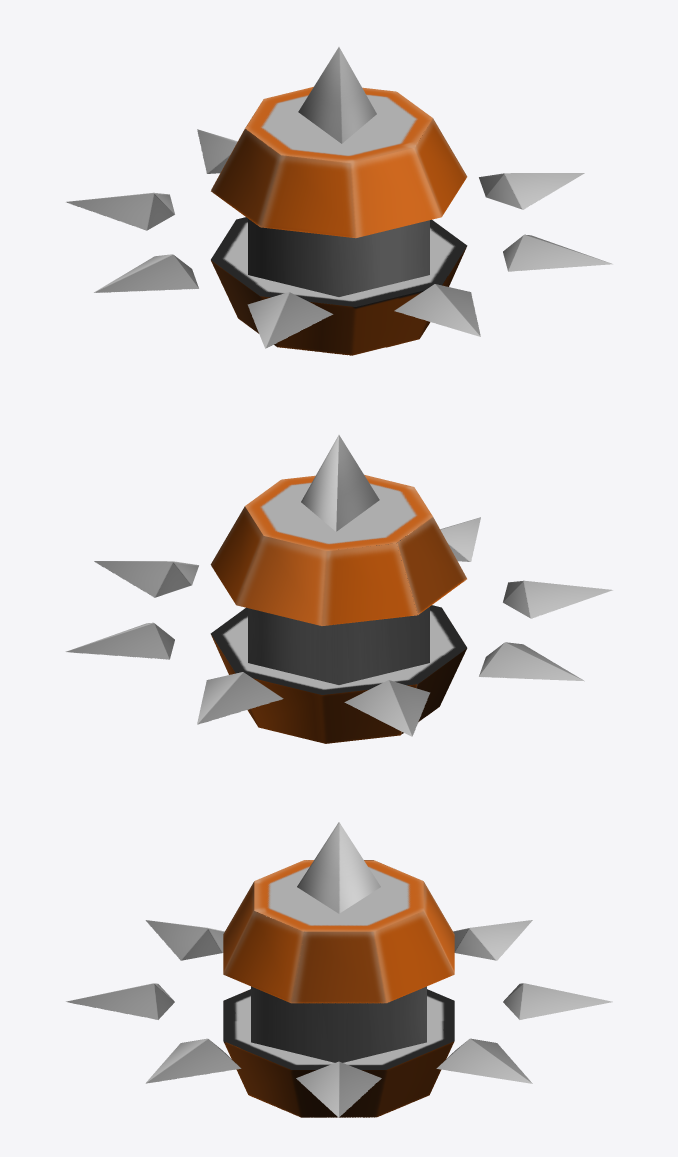
Rendered from Dust.FBX.
3 renders of one model, top to bottom at view 1: azimuth 30°, elevation 25°; view 2: azimuth 150°, elevation 25°; view 3: azimuth 270°, elevation 25°, orthographic. The views are drawn at different scales.
Visible parts, largest first — view 1: Dust; view 2: Dust; view 3: Dust.
Part boxes in pixels (box(x1,y1,x2,y2)): Dust: box(66, 47, 612, 355); Dust: box(65, 435, 612, 743); Dust: box(66, 822, 612, 1117).
Size of the model in its own units: 28.78 by 14.4 by 28.78.
1 material, 1 textured.
